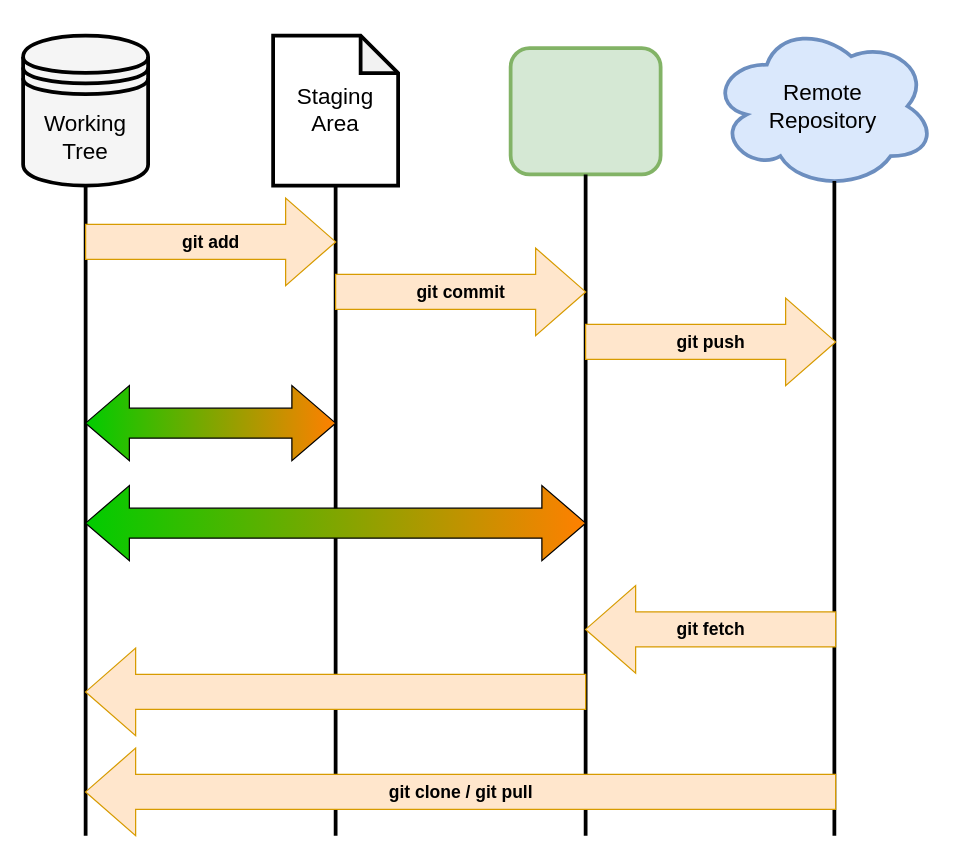
Image size: 959x860. Some labels were removed from this diagram. Here are the shapes that lost their labels. From the top down, the centre of each, then its label:
At (585,111): "Local Repository".
At (210,422): "git diff".
At (335,522): "git diff HEAD".
At (335,691): "git merge".
